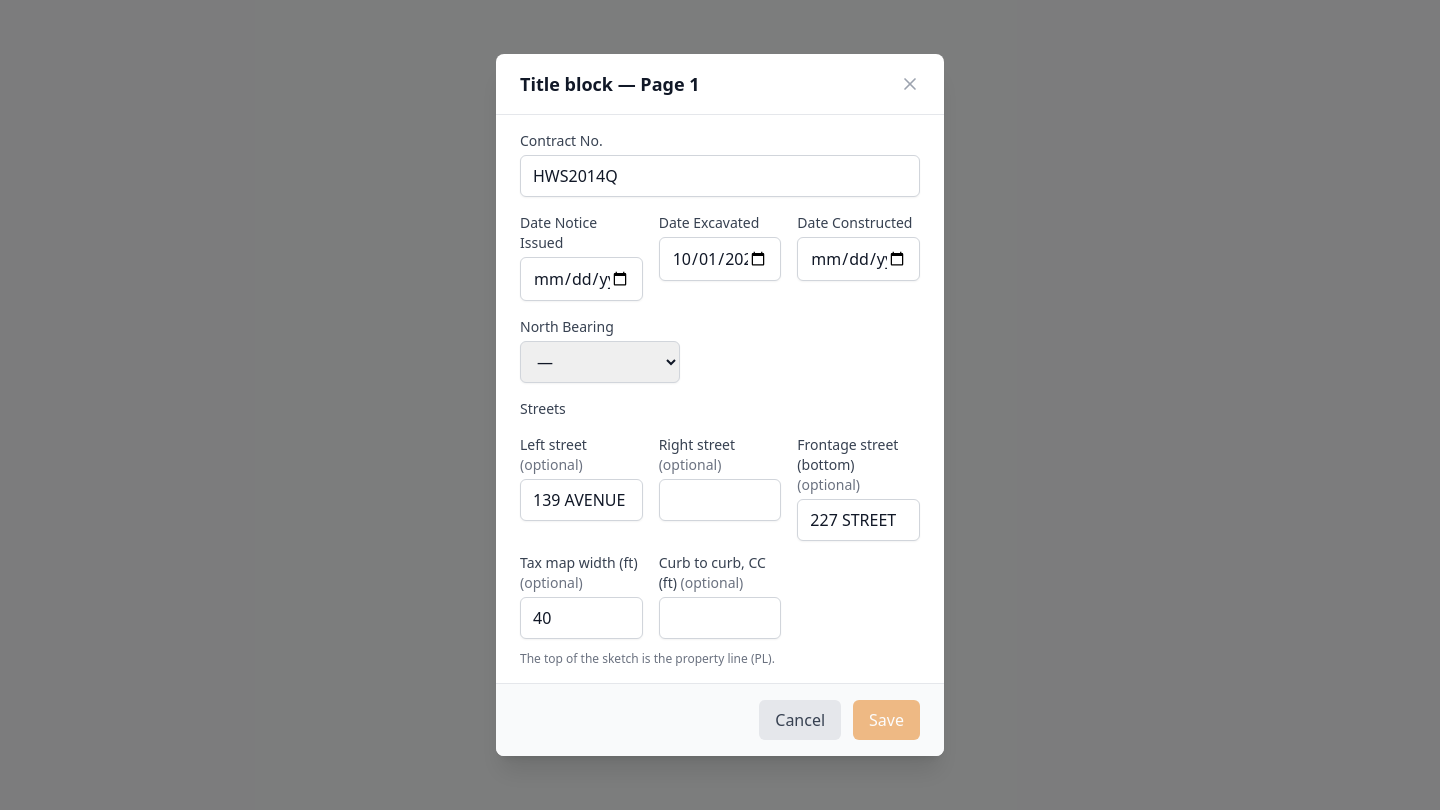
Test: TitleBlockEditor › keeps Save off until something changes
Expected: the button "Save" is disabled, [853,700,920,740]
Select "N" in the dropdown labelled "North Bearing" at (600, 362), box [520,341,680,383]
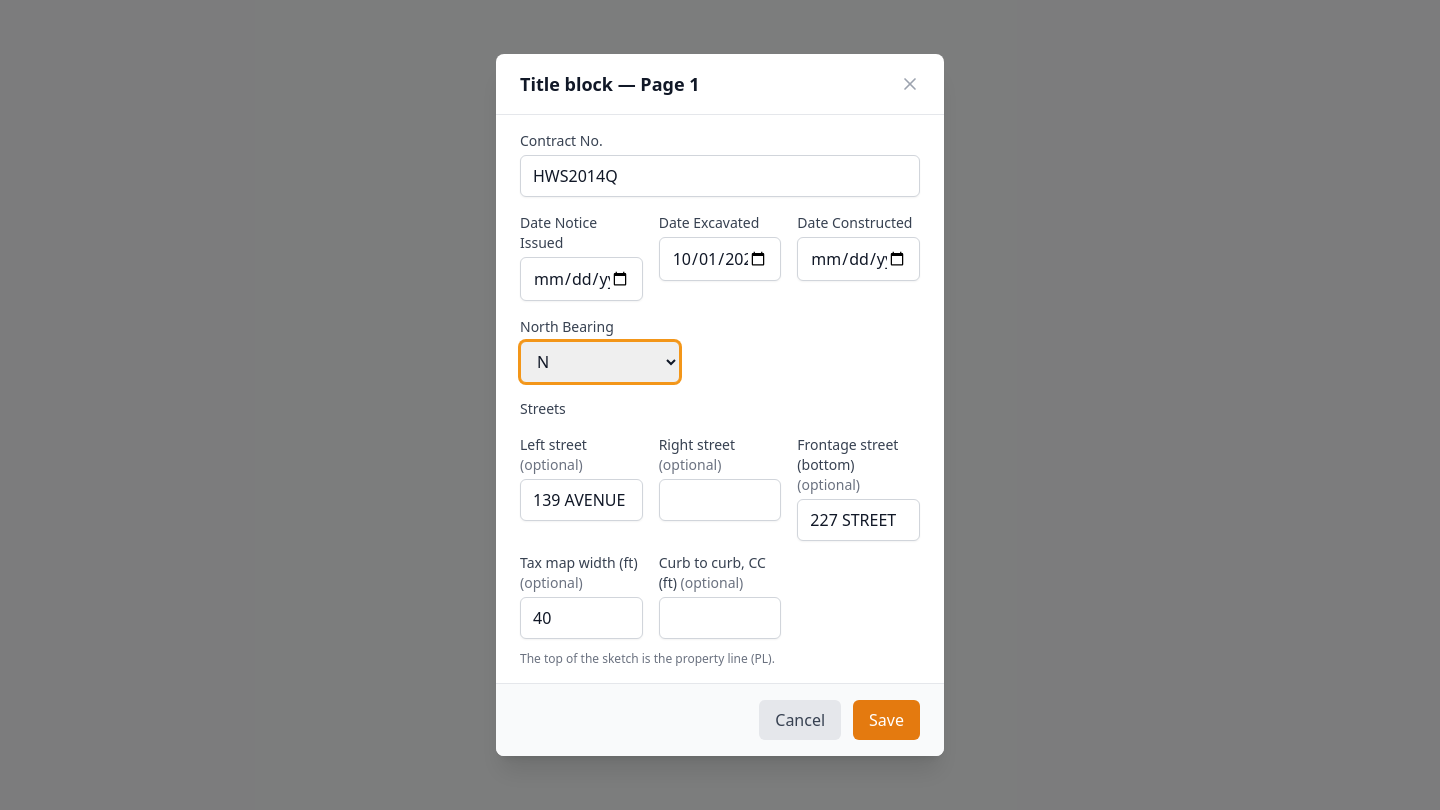
Expected: the button "Save" is enabled, [853,700,920,740]
